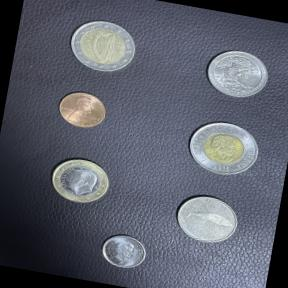coin: (176, 112, 266, 188), (58, 10, 144, 82), (199, 40, 276, 105), (41, 149, 118, 213), (168, 188, 244, 249), (50, 84, 113, 134), (94, 228, 151, 276)
